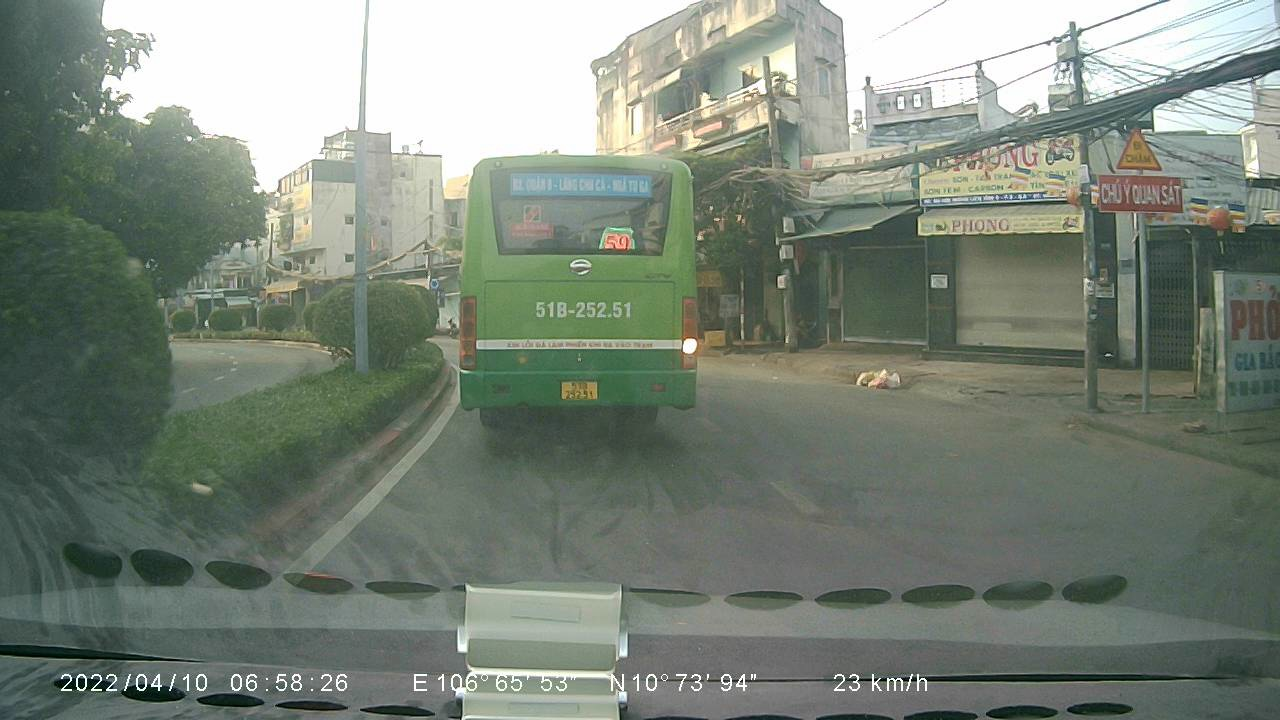Bien khac: (1110, 120, 1164, 173)
